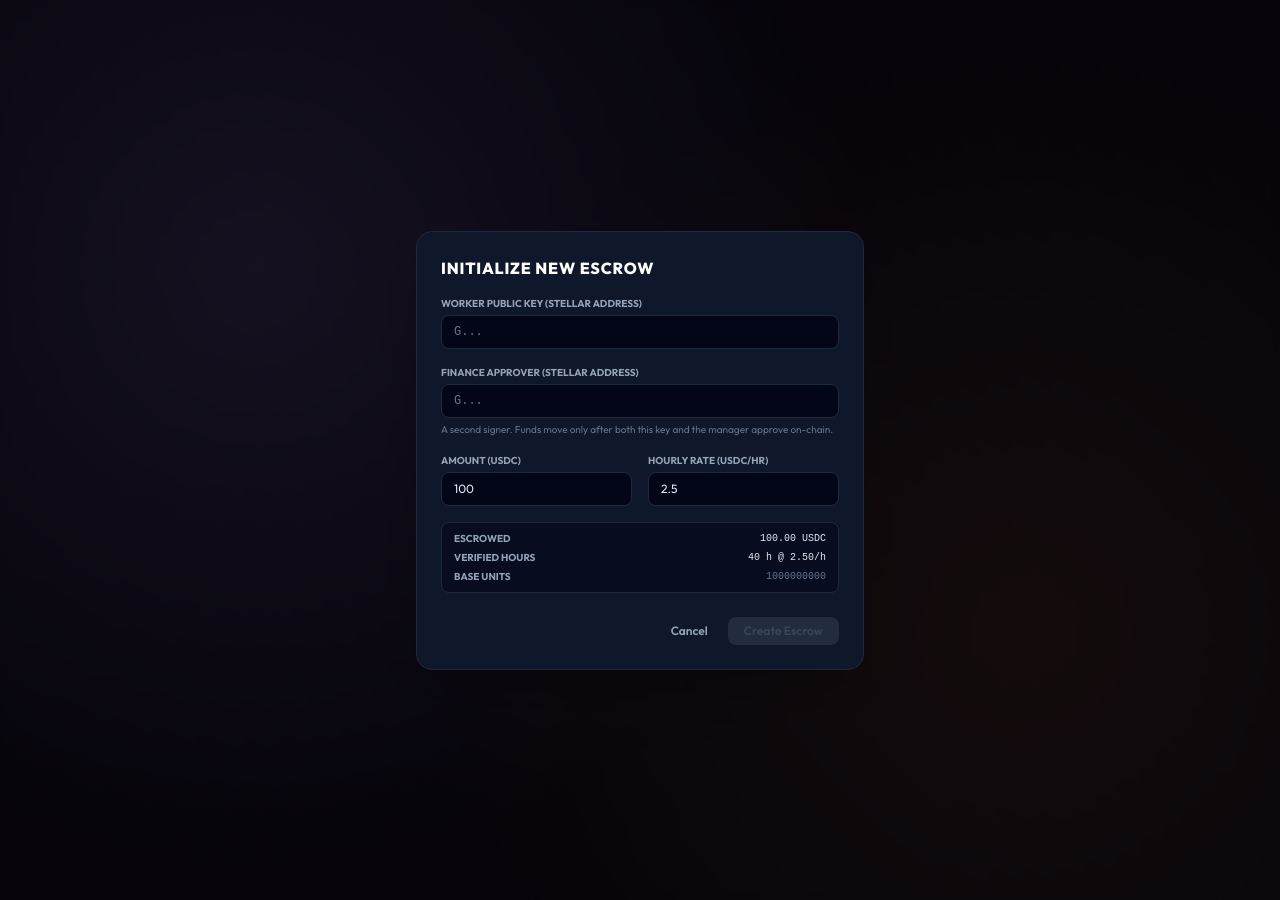
Test case: CreateEscrowModal Component › previews the hours the escrowed amount actually buys
Replace the text in the field labelled "Amount (USDC)" with "1000" at coordinates (536, 488), box top-left (441, 472), bottom-right (632, 506)
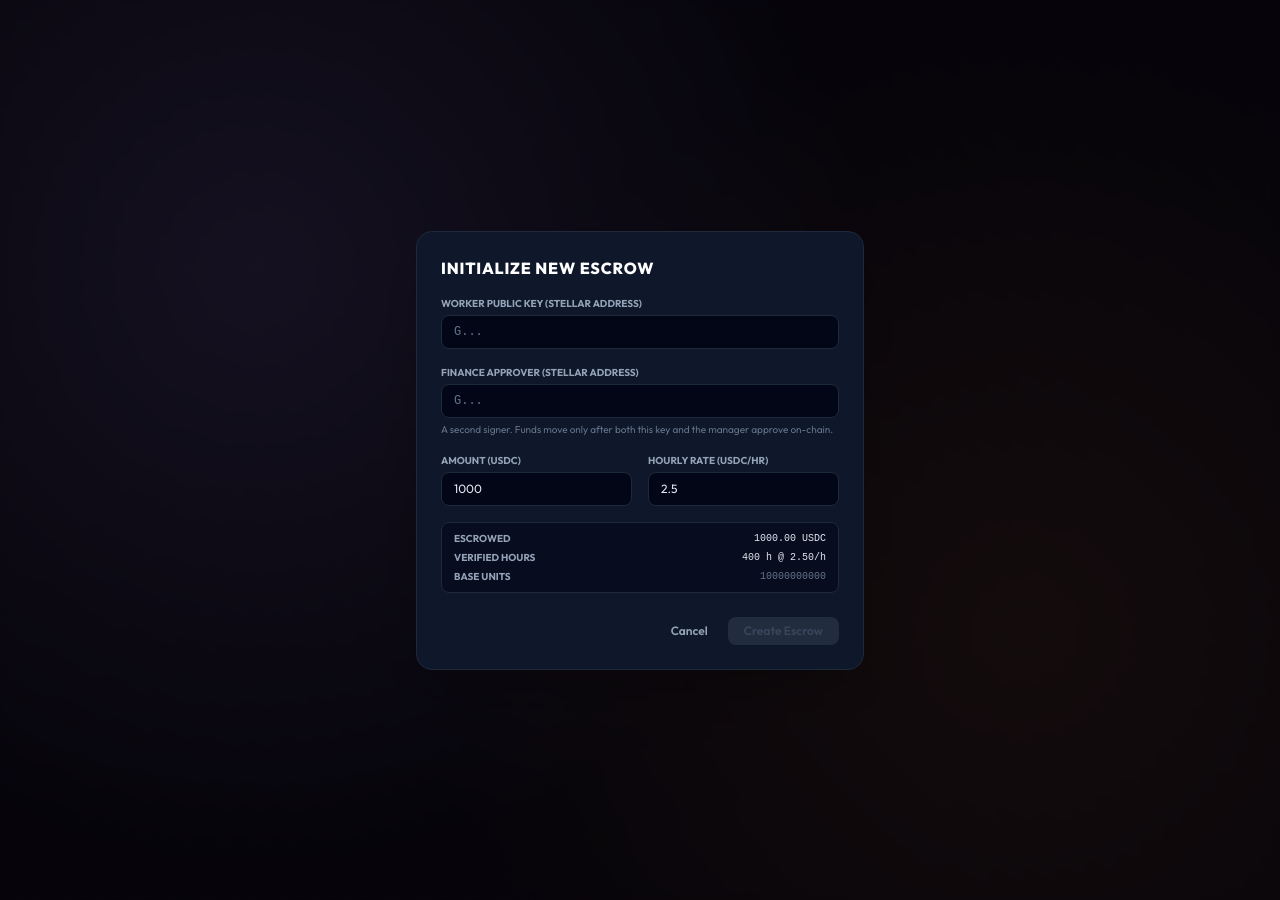
Replace the text in the field labelled "Hourly Rate (USDC/hr)" with "25" at coordinates (744, 488), box top-left (648, 472), bottom-right (839, 506)
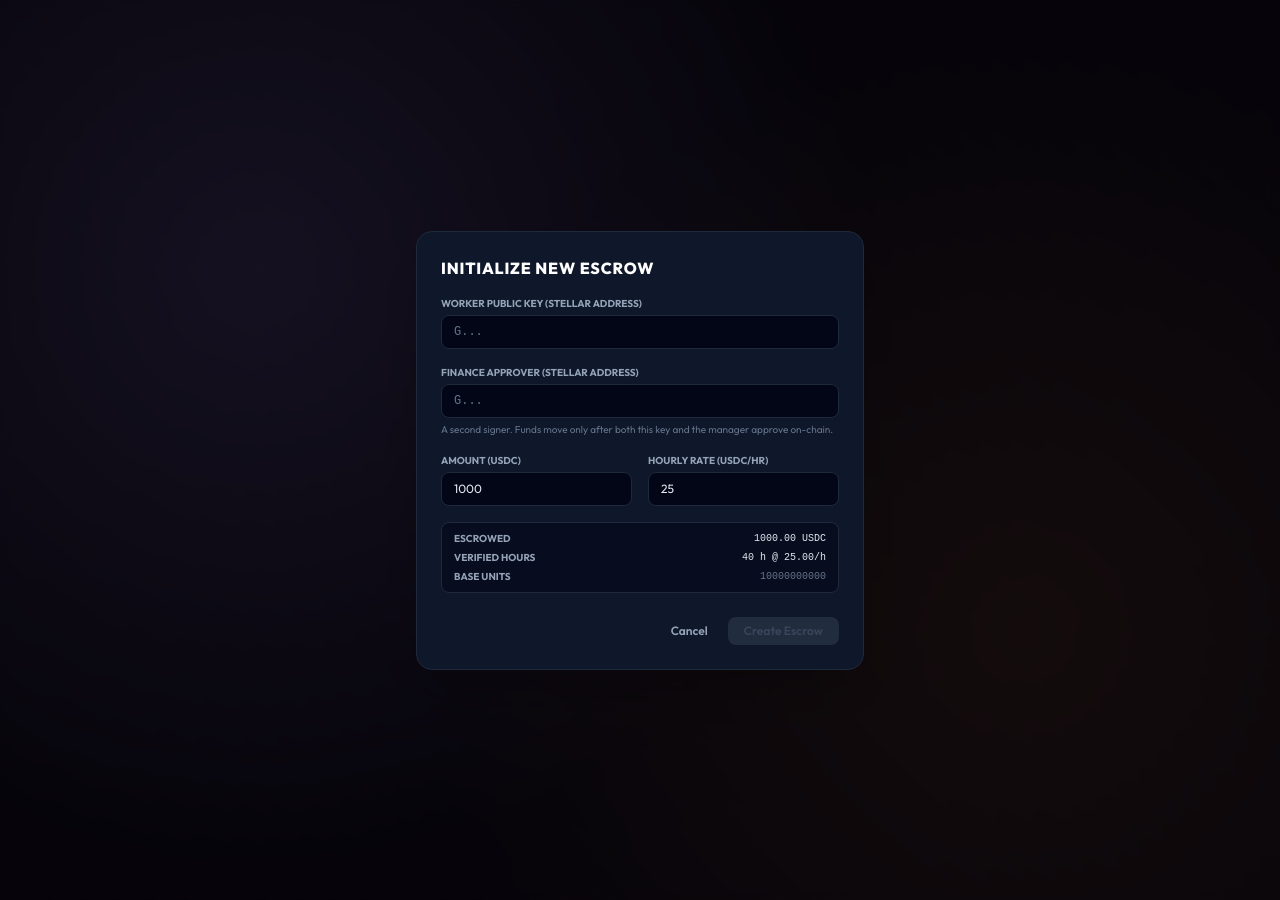
Expected: the text "40 h @ 25.00/h" is shown, top-left (742, 550), bottom-right (826, 564)
